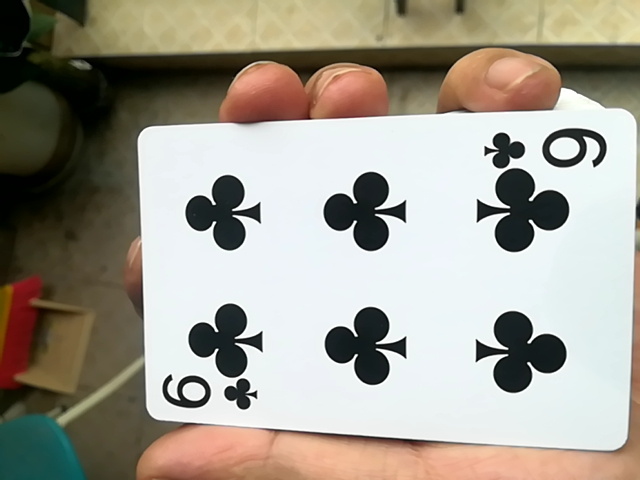mh 6: (134, 103, 633, 455)
